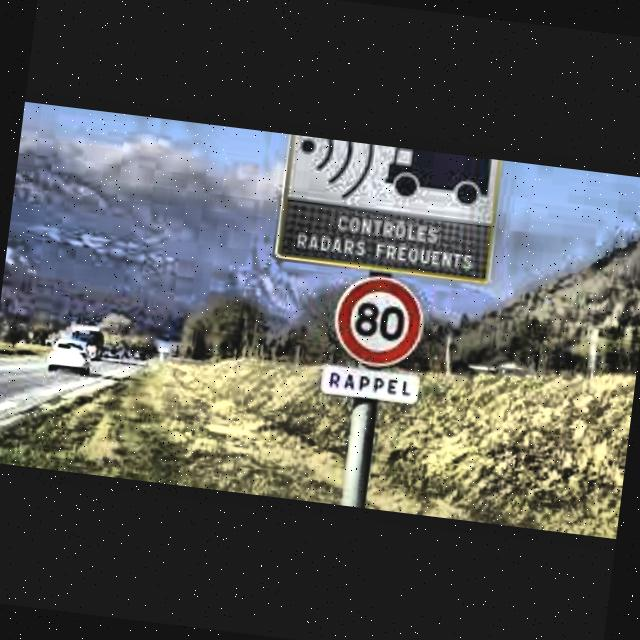speed_80: (332, 271, 431, 372)
